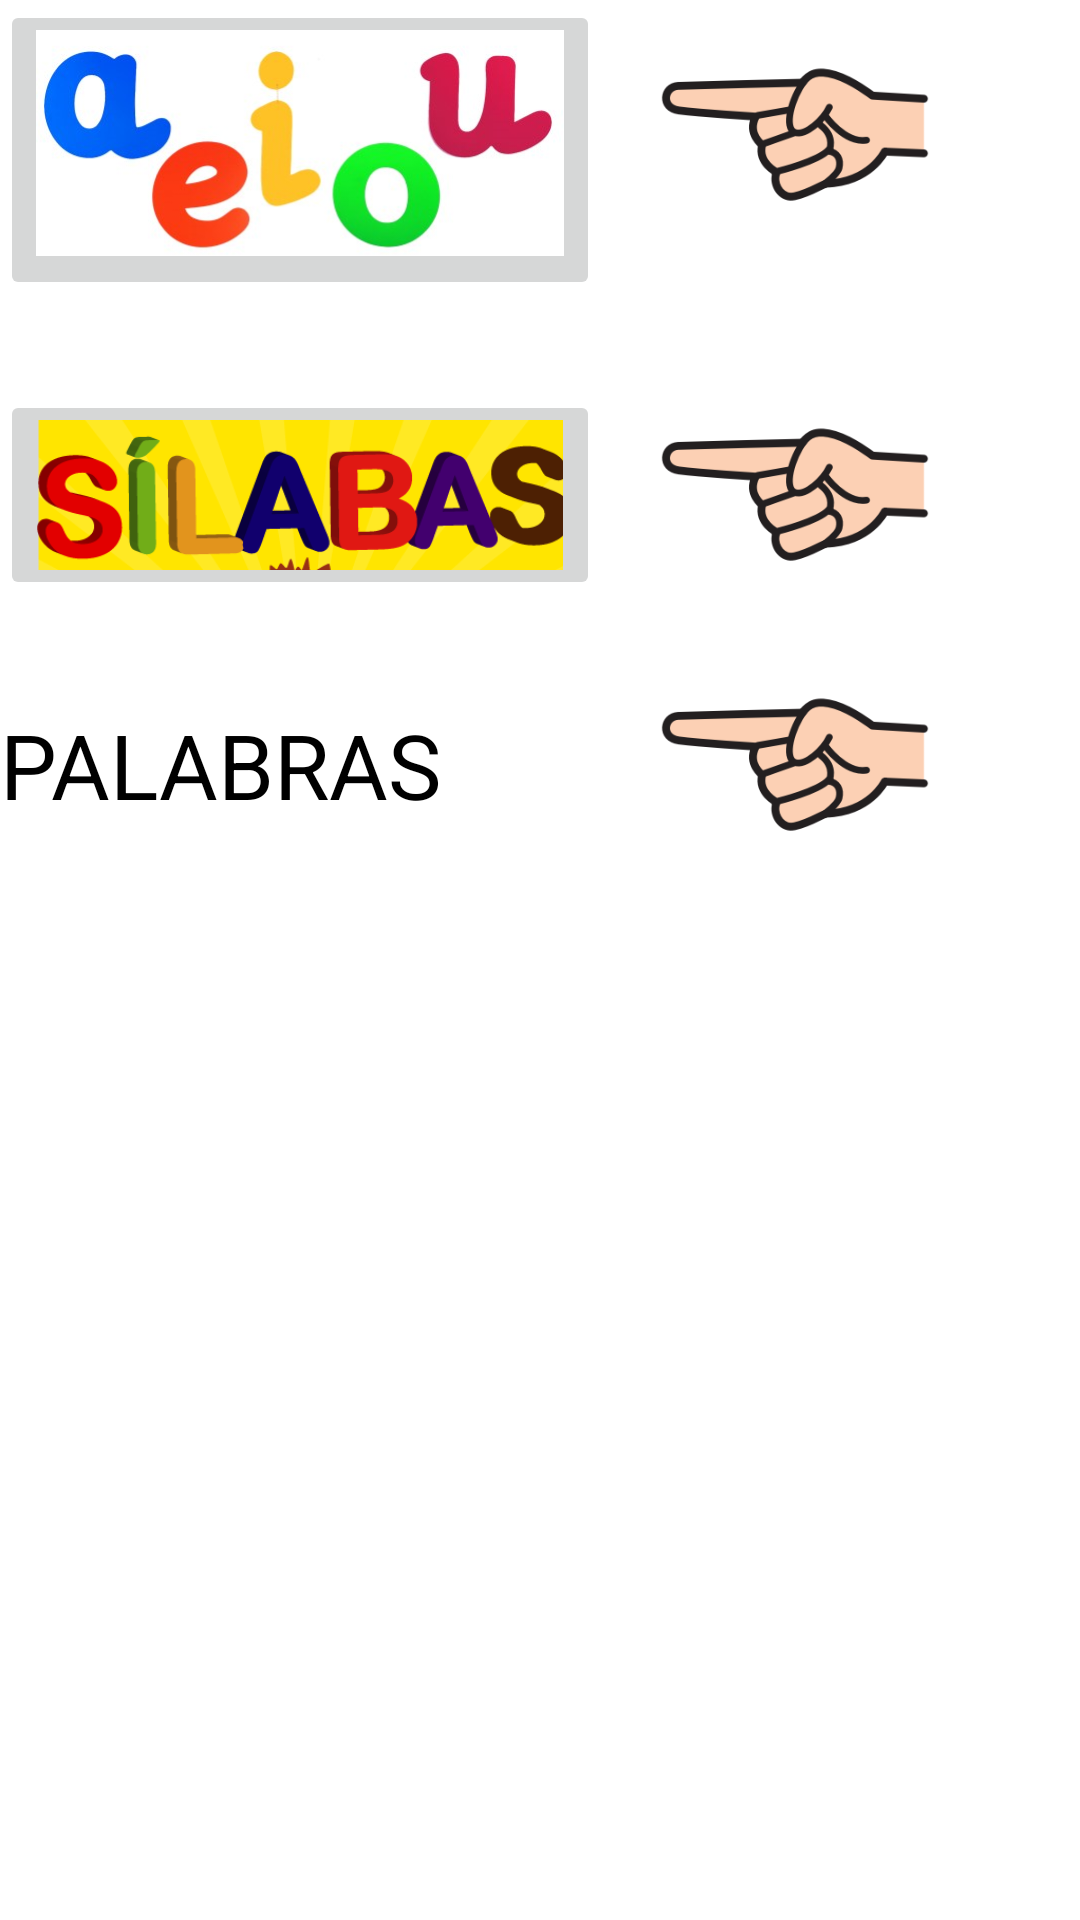

Where to tap for icons on this 1080 × 1920 app screen, as [x,y]:
finger: [795,134], [795,494], [795,764]
